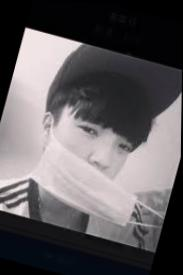WRONG: (38, 108, 139, 211)
